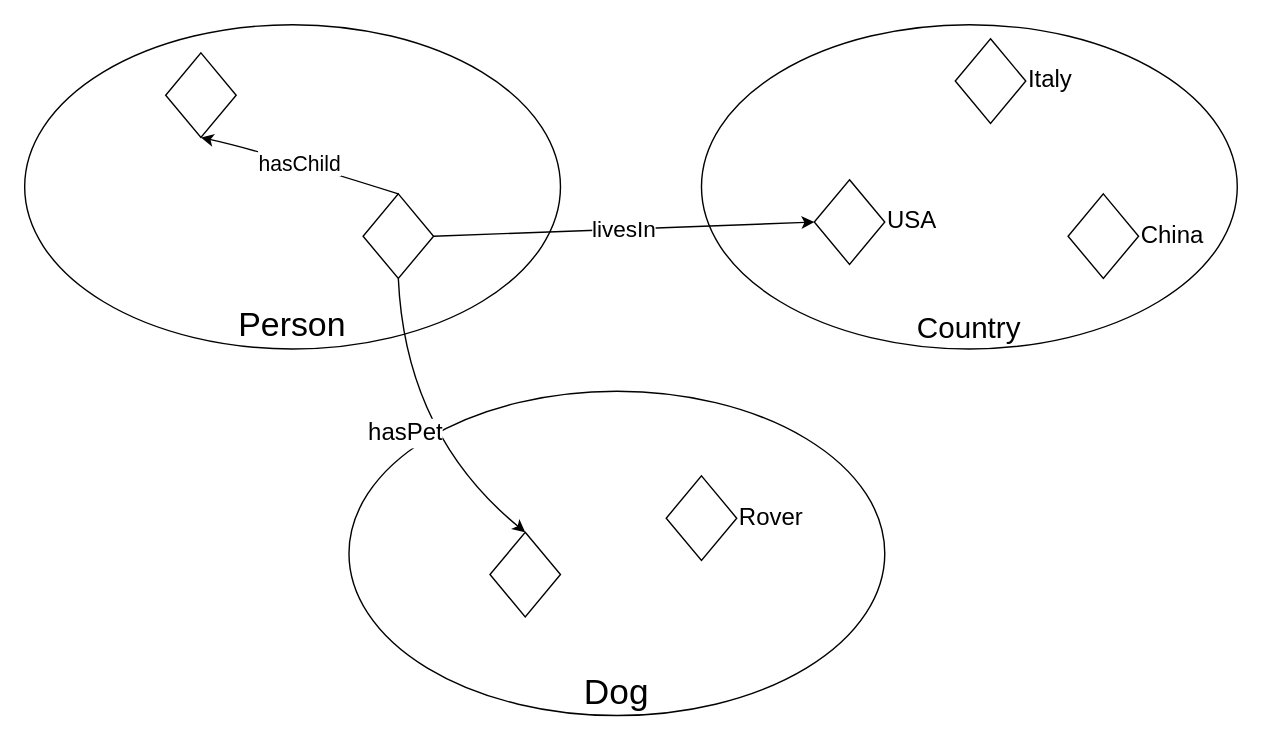
Some shapes in this 1262 by 740 pixel diagram are drawn without their labels. Here are the shapes that lost their labels. From the top down, the centre of each, then its label:
the point at 200,94: Oriana
the point at 398,235: Michael
the point at 524,574: Buddy
